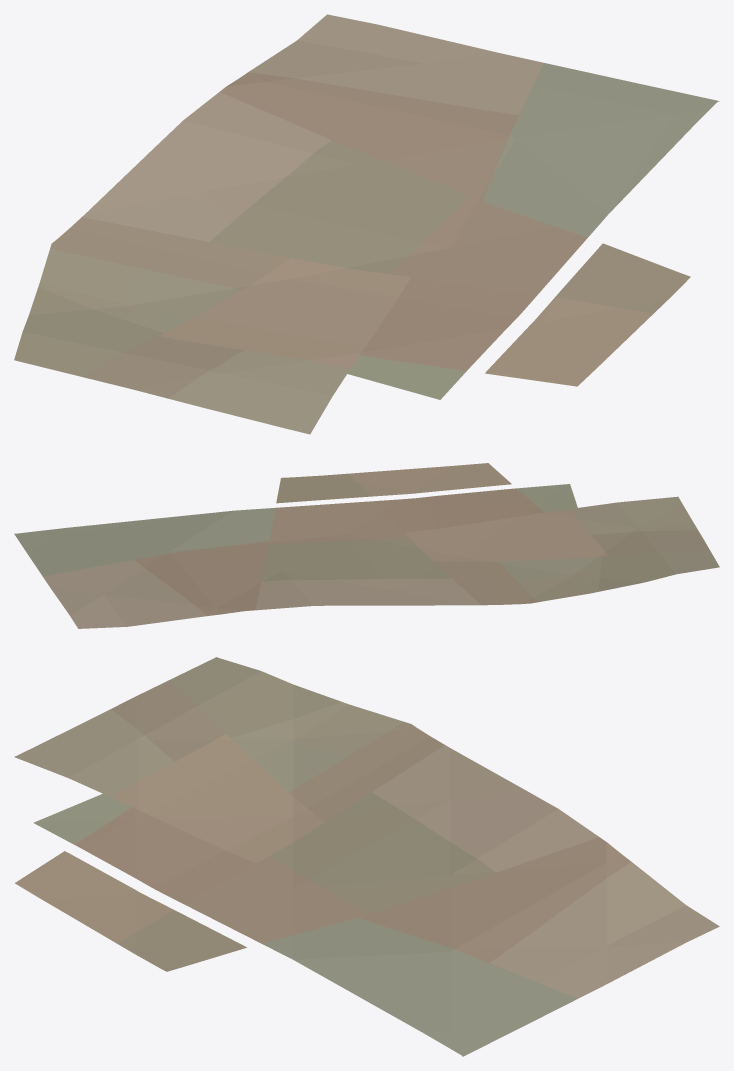
The model's file is farm_1_1_soil.glb.
3 views of the same model, one above another, from view 1: azimuth 30°, elevation 25°; view 2: azimuth 150°, elevation 25°; view 3: azimuth 270°, elevation 25° (orthographic). The views are drawn at different scales.
Parts seen in each view (by area): view 1: geometry_0; view 2: geometry_0; view 3: geometry_0.
Boxes of the visible parts, box(x1,y1,x2,y2) form: geometry_0: box(14, 14, 719, 434); geometry_0: box(14, 463, 719, 628); geometry_0: box(14, 657, 719, 1056).
Bounding box in the file's own units: 427 × 27.19 × 360.
